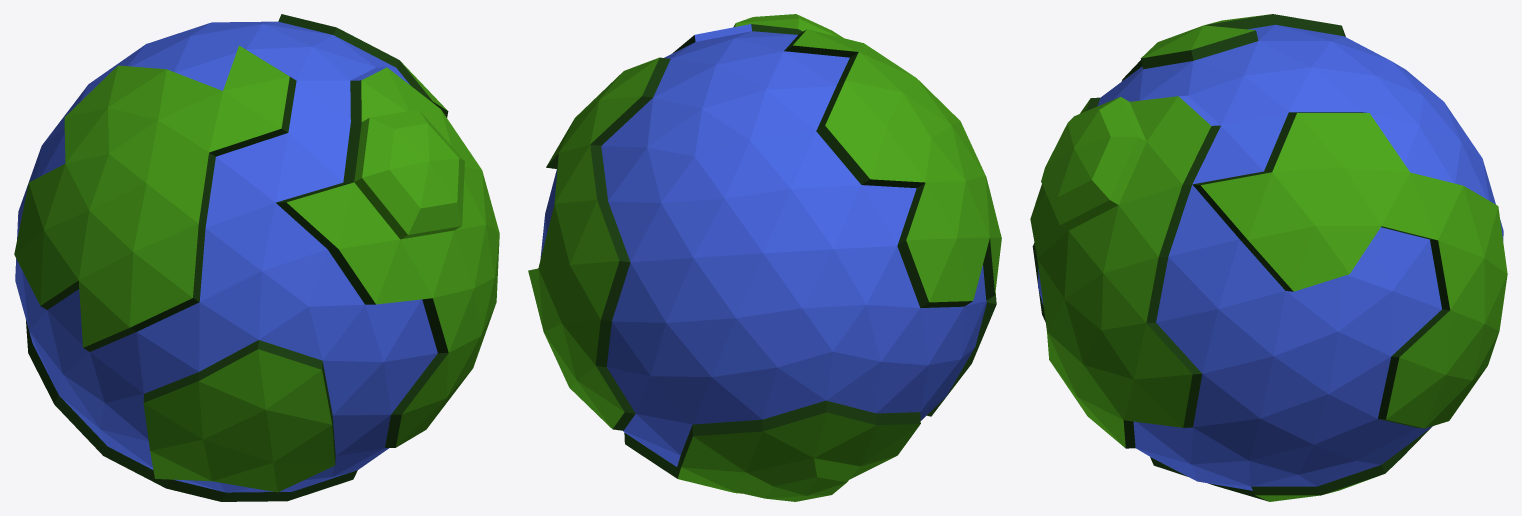
File: Planet1.fbx
3 renders of one model, left to right at view 1: azimuth 30°, elevation 25°; view 2: azimuth 150°, elevation 25°; view 3: azimuth 270°, elevation 25°, orthographic. The views are drawn at different scales.
Parts seen in each view (by area): view 1: Icosphere; view 2: Icosphere; view 3: Icosphere.
Boxes of the visible parts, box(x1,y1,x2,y2) form: Icosphere: box(14, 14, 499, 501); Icosphere: box(528, 14, 1001, 501); Icosphere: box(1030, 14, 1507, 501).
Size of the model in its own units: 393 by 393 by 400.
